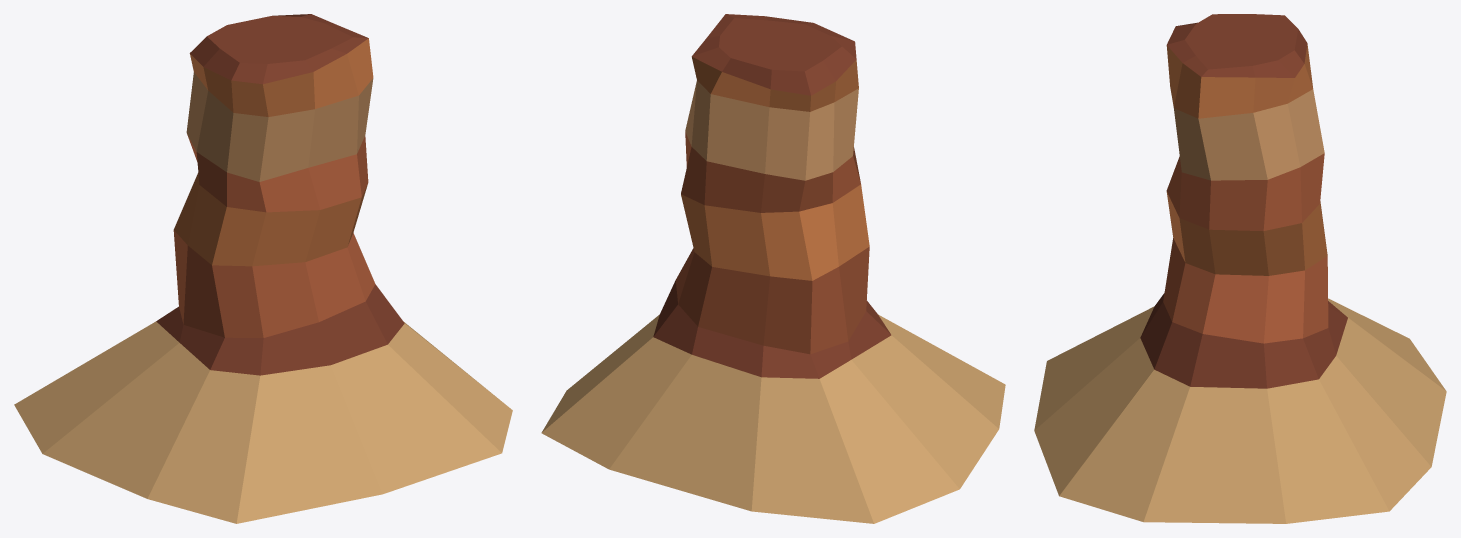
The model's file is SM_Butte_A.fbx.
3 renders of one model, left to right at view 1: azimuth 30°, elevation 25°; view 2: azimuth 150°, elevation 25°; view 3: azimuth 270°, elevation 25°, orthographic. The views are drawn at different scales.
Visible parts, largest first — view 1: Butte_A; view 2: Butte_A; view 3: Butte_A.
Part boxes in pixels (left/top/right/bottom): Butte_A: left=14, top=14, right=512, bottom=523; Butte_A: left=541, top=14, right=1005, bottom=523; Butte_A: left=1034, top=14, right=1446, bottom=523.
Bounding box in the file's own units: 3503 × 3057 × 3180.
